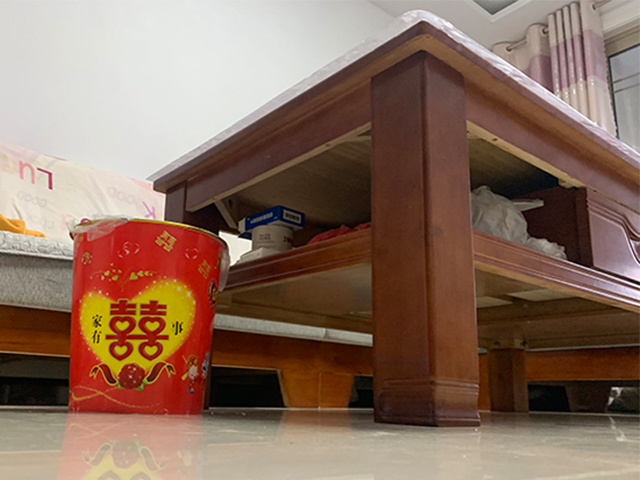table: (153, 19, 640, 430)
trashcan: (65, 218, 229, 415)
